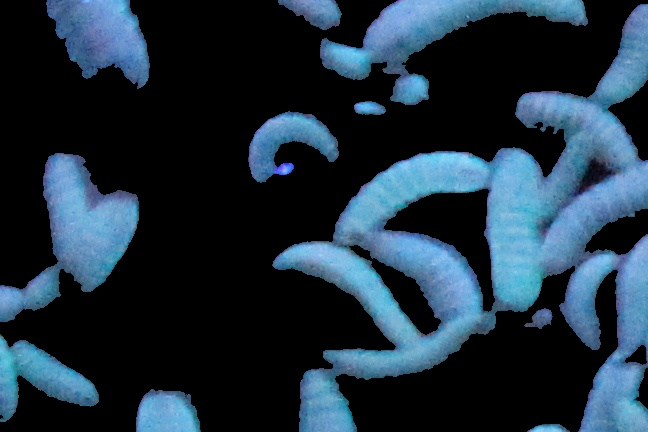larvae: (269, 239, 422, 350), (365, 1, 586, 77), (320, 305, 498, 396), (334, 151, 490, 242), (21, 1, 152, 101), (542, 162, 648, 273), (361, 231, 480, 328), (515, 90, 642, 170), (314, 39, 429, 105), (524, 127, 591, 229), (248, 111, 340, 183), (75, 190, 139, 293), (7, 340, 100, 408), (45, 153, 93, 268), (559, 254, 617, 349), (594, 5, 648, 101), (581, 356, 648, 432), (291, 369, 360, 432), (615, 237, 648, 355), (256, 1, 344, 30), (1, 331, 18, 428)
